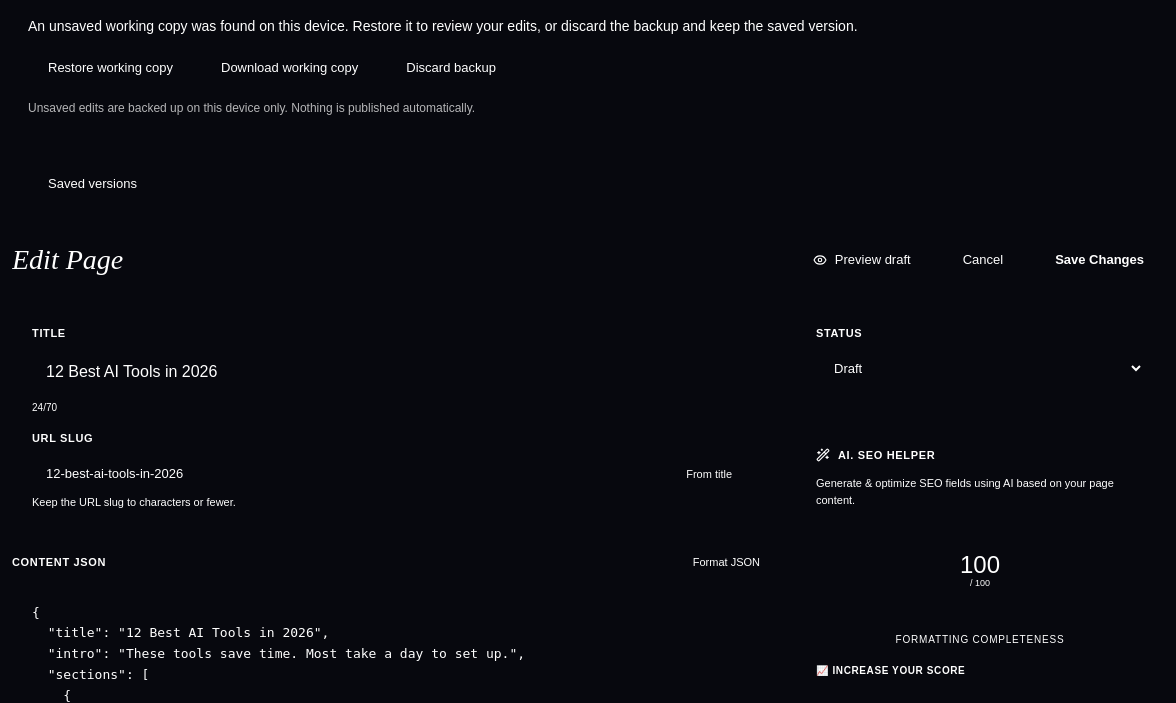
GeneratedPageEditor › restores an unsaved resource only on request and keeps the saved-version guard
Earlier steps of the test are not shown.
Check: the field labelled "Title" holds "12 Best AI Tools in 2026", box [32,350,752,394]
Click the button "Restore working copy" at (110, 68), box [28,48,193,88]
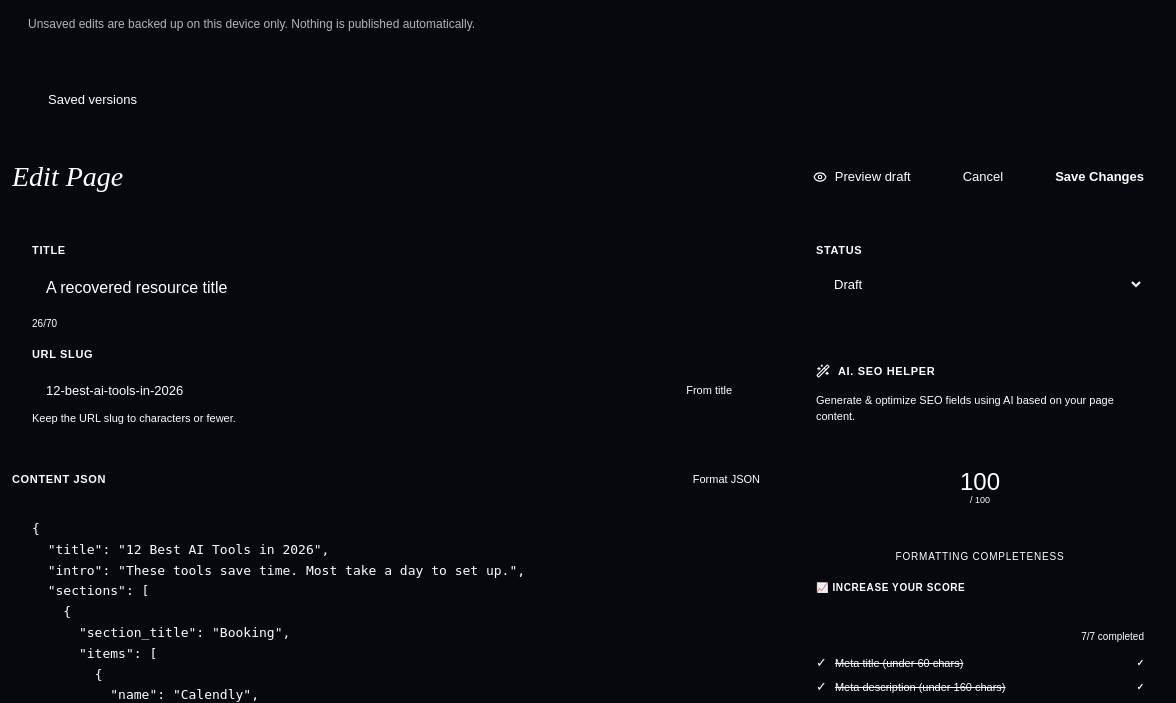
Check: the field labelled "Title" holds "A recovered resource title", box [32,266,752,310]
